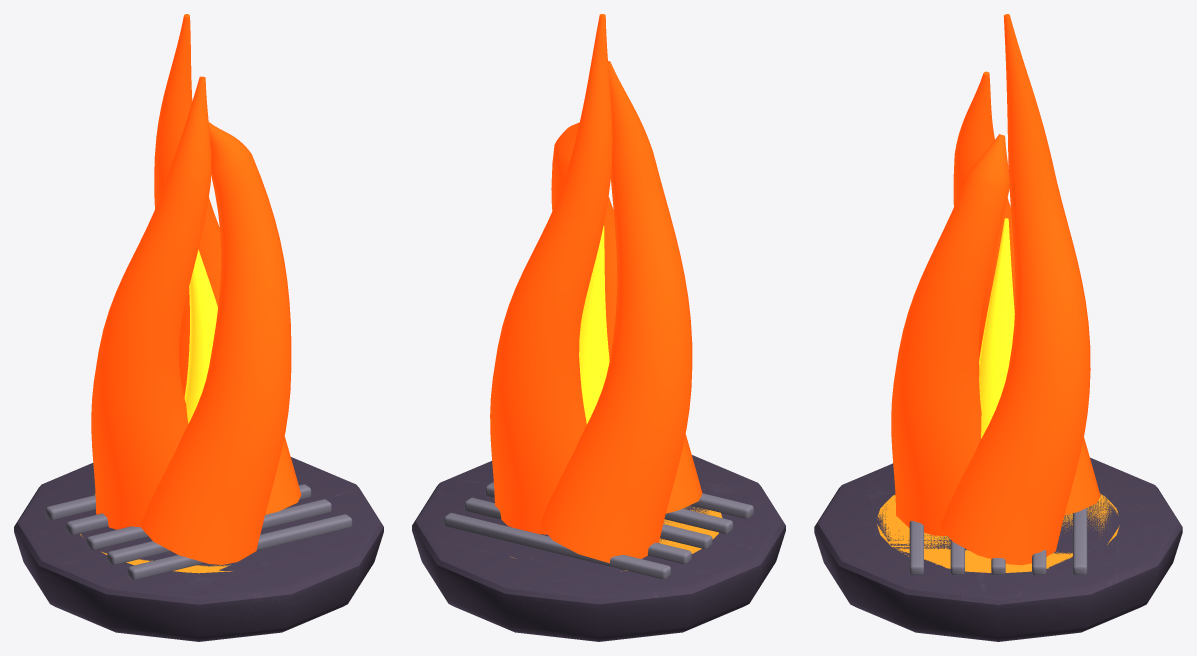
The model's file is hz_fire_vent_active.glb.
3 renders of one model, left to right at view 1: azimuth 30°, elevation 25°; view 2: azimuth 150°, elevation 25°; view 3: azimuth 270°, elevation 25°, orthographic.
Parts seen in each view (by area): view 1: hz_fire_vent_active; view 2: hz_fire_vent_active; view 3: hz_fire_vent_active.
Part boxes in pixels (x1,y1,x2,y2): hz_fire_vent_active: [14, 14, 383, 641]; hz_fire_vent_active: [412, 14, 785, 641]; hz_fire_vent_active: [814, 14, 1182, 641].
Bounding box in the file's own units: 0.9035 × 1.5 × 0.9035.
5 materials, 1 textured.
